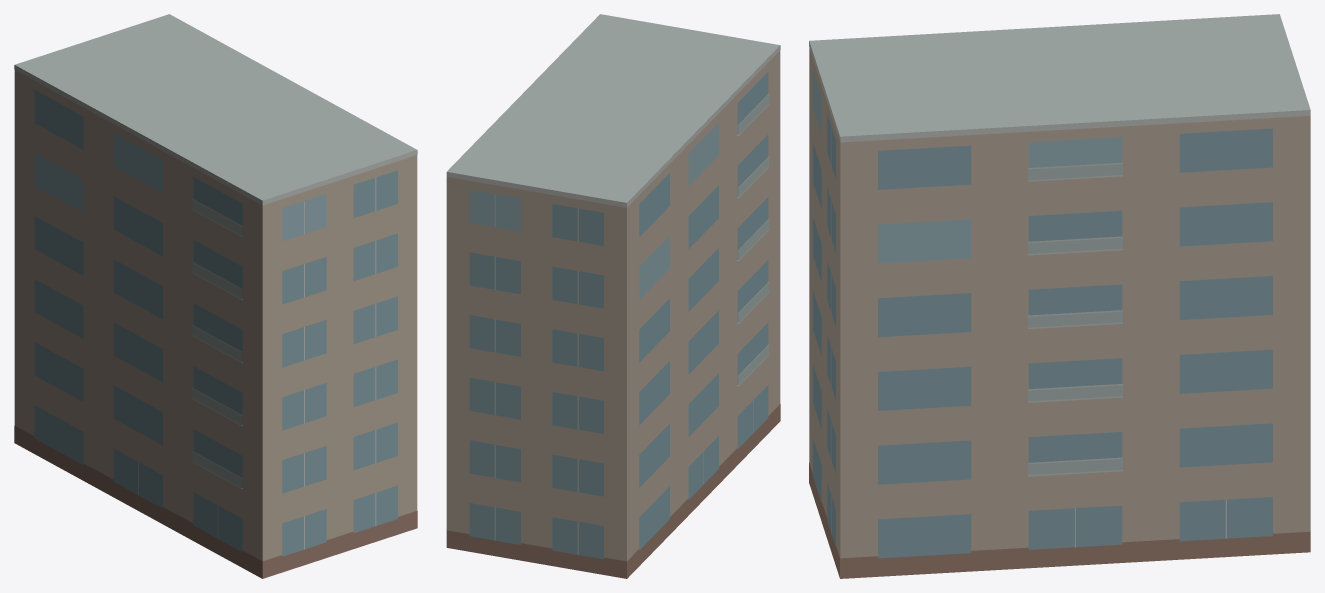
Rendered from survey-upis-32575384.glb.
The picture shows the model from 3 angles, left to right: view 1: azimuth 30°, elevation 25°; view 2: azimuth 150°, elevation 25°; view 3: azimuth 270°, elevation 25°; orthographic projection. The views are drawn at different scales.
Parts seen in each view (by area): view 1: survey-upis-32575384.tmp; view 2: survey-upis-32575384.tmp; view 3: survey-upis-32575384.tmp.
Boxes of the visible parts, x1,y1,x2,y2 form: survey-upis-32575384.tmp: [14, 14, 417, 578]; survey-upis-32575384.tmp: [446, 14, 780, 578]; survey-upis-32575384.tmp: [809, 14, 1310, 578].
Bounding box in the file's own units: 11.01 × 18.5 × 19.03.
